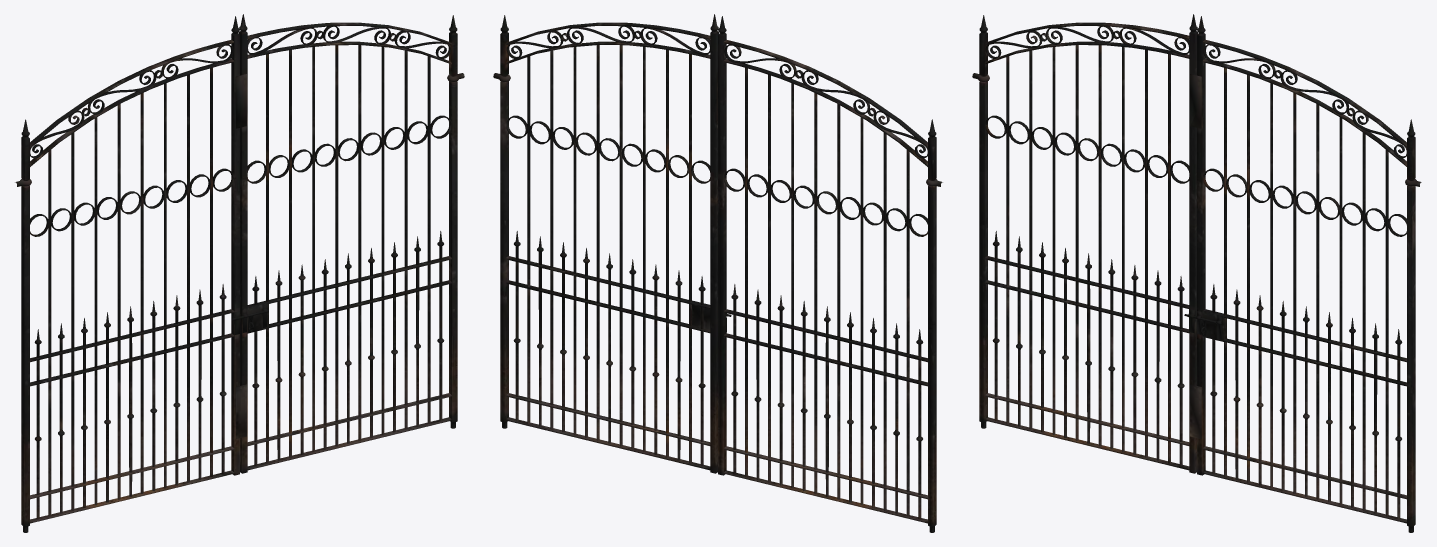
Rendered from large_iron_gate.glb.
3 views of the same model, side by side, from view 1: azimuth 30°, elevation 25°; view 2: azimuth 150°, elevation 25°; view 3: azimuth 330°, elevation 25° (orthographic).
Visible parts, largest first — view 1: large_iron_gate_right_door, large_iron_gate_left_door; view 2: large_iron_gate_left_door, large_iron_gate_right_door; view 3: large_iron_gate_right_door, large_iron_gate_left_door.
Boxes of the visible parts, left/top/right/bottom form: large_iron_gate_right_door: left=235, top=14, right=457, bottom=473; large_iron_gate_left_door: left=21, top=16, right=241, bottom=532; large_iron_gate_left_door: left=718, top=16, right=936, bottom=532; large_iron_gate_right_door: left=500, top=14, right=718, bottom=473; large_iron_gate_right_door: left=1190, top=16, right=1415, bottom=532; large_iron_gate_left_door: left=979, top=14, right=1197, bottom=473.
Bounding box in the file's own units: 2.95 × 2.93 × 0.0973.
1 material, 1 textured.
